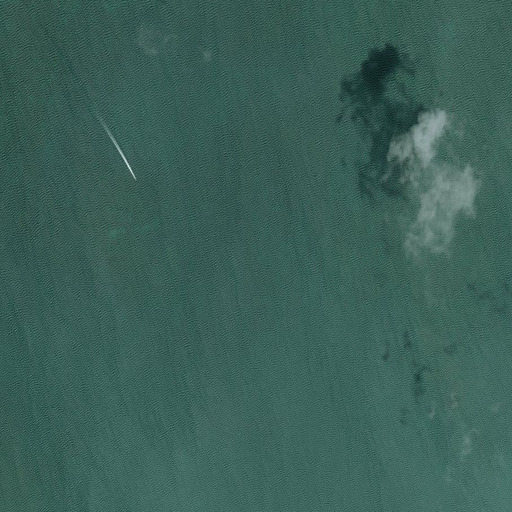ship: (134, 178, 137, 181)
